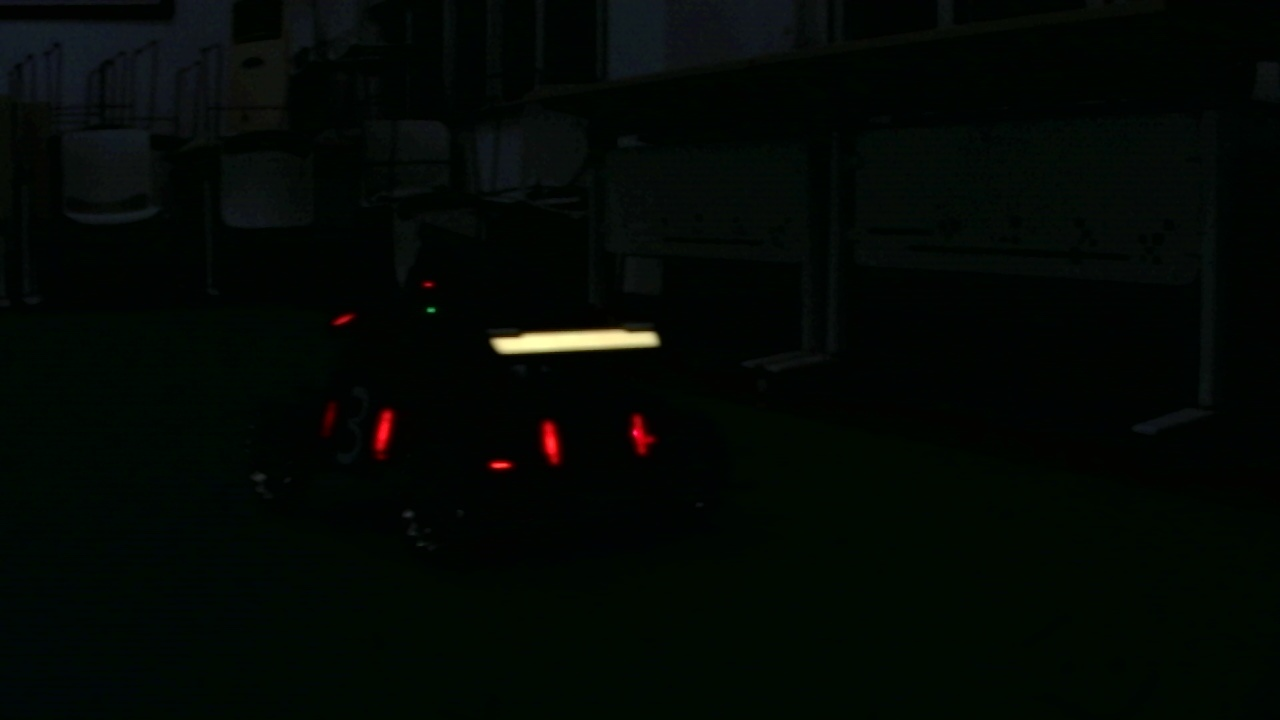lamp: (538, 414, 563, 474), (373, 397, 395, 463), (627, 412, 654, 458)
notpair1: (373, 400, 565, 472)
pair1: (540, 415, 651, 472)
